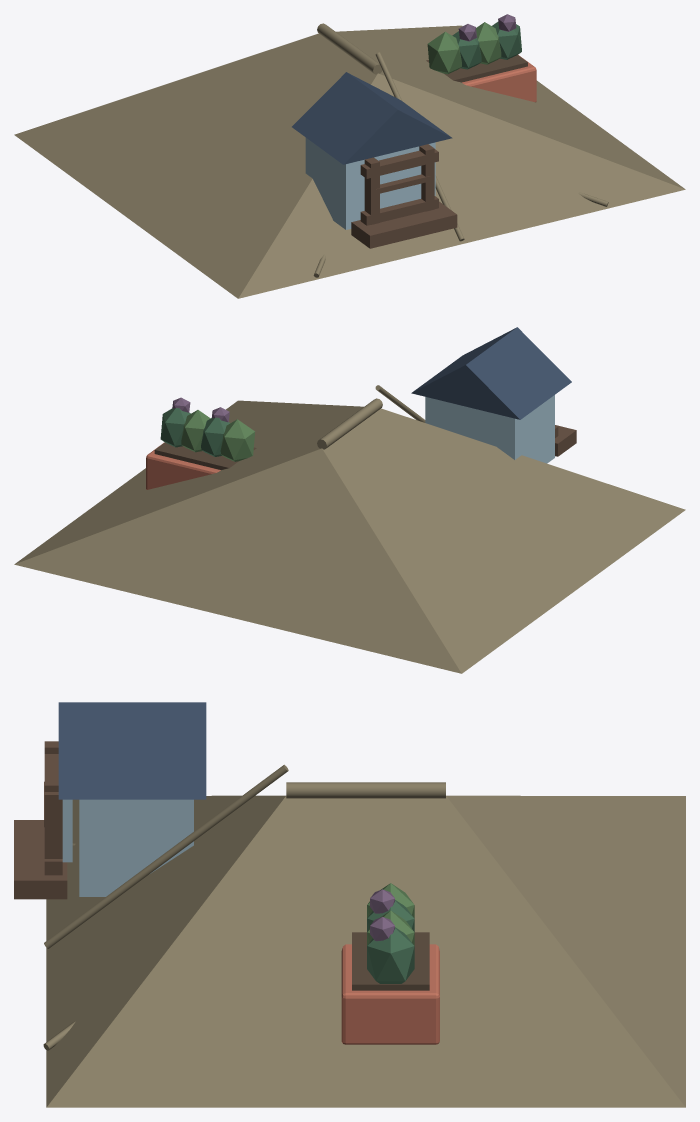
File: roof_traditional_gardens_1.glb
3 views of the same model, one above another, from view 1: azimuth 30°, elevation 25°; view 2: azimuth 150°, elevation 25°; view 3: azimuth 270°, elevation 25° (orthographic). The views are drawn at different scales.
Parts seen in each view (by area): view 1: roof_traditional_gardens_1 patina, roof_traditional_gardens_1 slate, roof_traditional_gardens_1 wood, roof_traditional_gardens_1 mist, roof_traditional_gardens_1 leaf, roof_traditional_gardens_1 clay, roof_traditional_gardens_1 pine, roof_traditional_gardens_1 glass, roof_traditional_gardens_1 soil, roof_traditional_gardens_1 plum; view 2: roof_traditional_gardens_1 patina, roof_traditional_gardens_1 slate, roof_traditional_gardens_1 mist, roof_traditional_gardens_1 leaf, roof_traditional_gardens_1 pine, roof_traditional_gardens_1 clay, roof_traditional_gardens_1 soil, roof_traditional_gardens_1 wood; view 3: roof_traditional_gardens_1 patina, roof_traditional_gardens_1 slate, roof_traditional_gardens_1 mist, roof_traditional_gardens_1 clay, roof_traditional_gardens_1 wood, roof_traditional_gardens_1 pine, roof_traditional_gardens_1 soil, roof_traditional_gardens_1 plum, roof_traditional_gardens_1 leaf, roof_traditional_gardens_1 glass.
Boxes of the visible parts, x1=… form: roof_traditional_gardens_1 patina: x1=14, y1=23, x2=685, y2=298; roof_traditional_gardens_1 slate: x1=292, y1=72, x2=452, y2=164; roof_traditional_gardens_1 wood: x1=351, y1=144, x2=457, y2=248; roof_traditional_gardens_1 mist: x1=305, y1=137, x2=435, y2=229; roof_traditional_gardens_1 leaf: x1=427, y1=22, x2=501, y2=74; roof_traditional_gardens_1 clay: x1=462, y1=55, x2=536, y2=102; roof_traditional_gardens_1 pine: x1=452, y1=22, x2=521, y2=69; roof_traditional_gardens_1 glass: x1=380, y1=166, x2=421, y2=208; roof_traditional_gardens_1 soil: x1=426, y1=55, x2=527, y2=82; roof_traditional_gardens_1 plum: x1=458, y1=14, x2=516, y2=41; roof_traditional_gardens_1 patina: x1=14, y1=385, x2=685, y2=673; roof_traditional_gardens_1 slate: x1=411, y1=327, x2=571, y2=419; roof_traditional_gardens_1 mist: x1=425, y1=395, x2=554, y2=463; roof_traditional_gardens_1 leaf: x1=181, y1=410, x2=255, y2=461; roof_traditional_gardens_1 pine: x1=160, y1=408, x2=230, y2=456; roof_traditional_gardens_1 clay: x1=146, y1=442, x2=220, y2=489; roof_traditional_gardens_1 soil: x1=154, y1=442, x2=256, y2=469; roof_traditional_gardens_1 wood: x1=555, y1=425, x2=576, y2=456; roof_traditional_gardens_1 patina: x1=43, y1=764, x2=685, y2=1107; roof_traditional_gardens_1 slate: x1=58, y1=702, x2=206, y2=799; roof_traditional_gardens_1 mist: x1=79, y1=799, x2=193, y2=896; roof_traditional_gardens_1 clay: x1=341, y1=944, x2=439, y2=1044; roof_traditional_gardens_1 wood: x1=14, y1=741, x2=67, y2=899; roof_traditional_gardens_1 pine: x1=367, y1=900, x2=414, y2=983; roof_traditional_gardens_1 soil: x1=352, y1=932, x2=429, y2=990; roof_traditional_gardens_1 plum: x1=370, y1=889, x2=394, y2=941; roof_traditional_gardens_1 leaf: x1=367, y1=883, x2=414, y2=945; roof_traditional_gardens_1 glass: x1=62, y1=799, x2=72, y2=862.
Bounding box in the file's own units: 0.9 × 0.28 × 0.8195.
